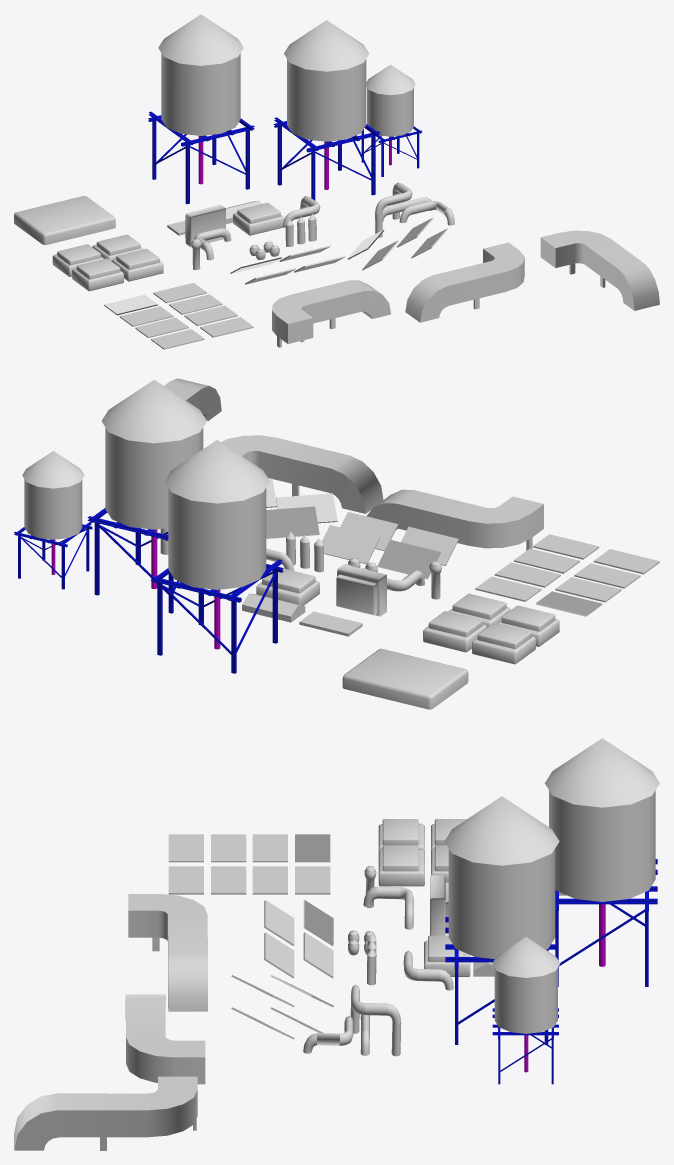
File: RooftopsNew.FBX
The picture shows the model from 3 angles, top to bottom: view 1: azimuth 30°, elevation 25°; view 2: azimuth 150°, elevation 25°; view 3: azimuth 270°, elevation 25°; orthographic projection. The views are drawn at different scales.
Parts seen in each view (by area): view 1: C-Ext008, C-Ext009, Object004, Line003, Line002, Line001, ChamferBox003, ChamferBox005, Cylinder007, ChamferBox002, Object003, ChamferBox004 (+4 smaller); view 2: C-Ext008, C-Ext009, Object004, Line001, Line002, ChamferBox003, Object002, ChamferBox005, Object003, ChamferBox004, ChamferBox002, Line003 (+4 smaller); view 3: C-Ext008, C-Ext009, Line003, Object004, Line001, Line002, ChamferBox003, Object002, Cylinder007, ChamferBox002, ChamferBox004, Cylinder005 (+2 smaller).
Boxes of the visible parts, box(x1,y1,x2,y2) form: C-Ext008: box(273, 20, 421, 200); C-Ext009: box(148, 14, 254, 204); Object004: box(104, 282, 253, 349); Line003: box(540, 230, 659, 310); Line002: box(405, 242, 524, 322); Line001: box(272, 280, 390, 347); ChamferBox003: box(52, 234, 163, 291); ChamferBox005: box(14, 196, 115, 245); Cylinder007: box(375, 182, 454, 237); ChamferBox002: box(233, 202, 284, 235); Object003: box(347, 218, 447, 270); ChamferBox004: box(185, 205, 225, 247); C-Ext008: box(14, 379, 206, 613); C-Ext009: box(150, 440, 283, 673); Object004: box(475, 534, 659, 616); Line001: box(367, 489, 543, 550); Line002: box(221, 435, 383, 513); ChamferBox003: box(423, 593, 559, 664); Object002: box(321, 512, 458, 579); ChamferBox005: box(342, 648, 468, 709); Object003: box(266, 478, 337, 538); ChamferBox004: box(336, 564, 386, 616); ChamferBox002: box(256, 568, 319, 605); Line003: box(164, 378, 221, 420); C-Ext008: box(444, 796, 560, 1084); C-Ext009: box(544, 738, 659, 986); Line003: box(14, 1076, 197, 1150); Object004: box(168, 834, 330, 894); Line001: box(128, 894, 207, 1011); Line002: box(125, 994, 205, 1084); ChamferBox003: box(378, 819, 466, 886); Object002: box(264, 900, 333, 978); Cylinder007: box(303, 985, 401, 1056); ChamferBox002: box(424, 935, 470, 976); ChamferBox004: box(430, 875, 448, 935); Cylinder005: box(363, 886, 413, 929).
Bounding box in the file's own units: 1111 × 459 × 1053.
